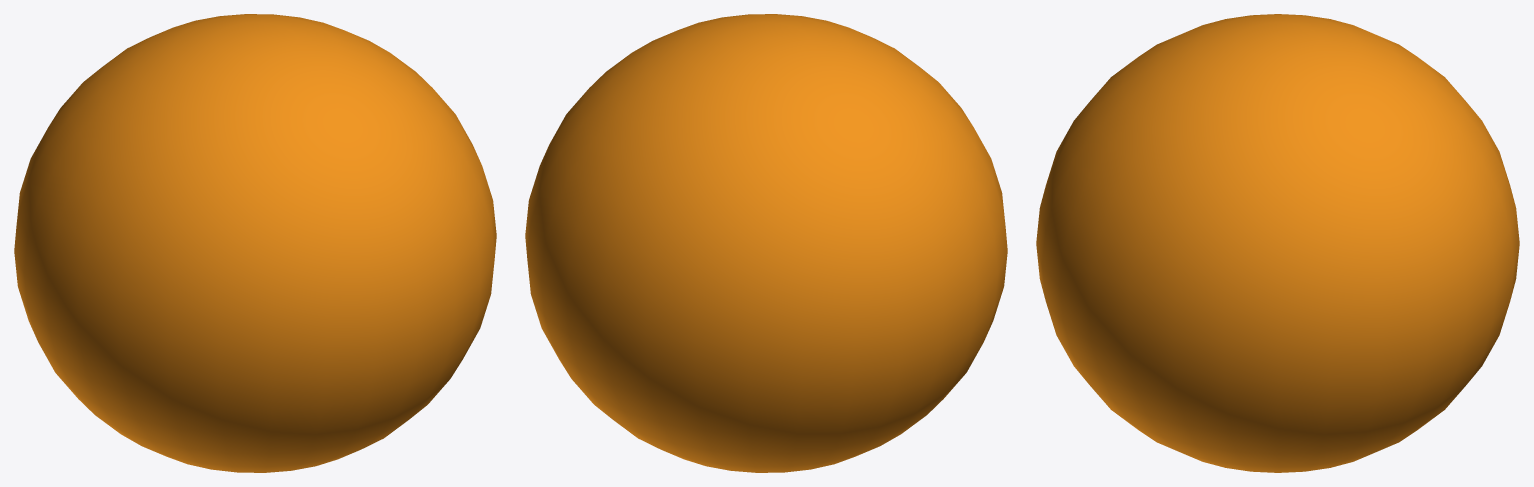
The model's file is orange.glb.
3 views of the same model, side by side, from view 1: azimuth 30°, elevation 25°; view 2: azimuth 150°, elevation 25°; view 3: azimuth 270°, elevation 25° (orthographic).
Parts seen in each view (by area): view 1: orange; view 2: orange; view 3: orange.
Boxes of the visible parts, <box> form: orange: <box>14,14,496,472</box>; orange: <box>525,14,1007,472</box>; orange: <box>1036,14,1519,472</box>.
Size of the model in its own units: 1 by 0.94 by 1.
